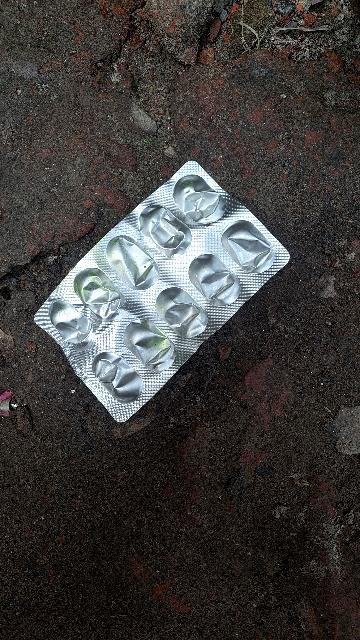medicine: (34, 161, 293, 421)
